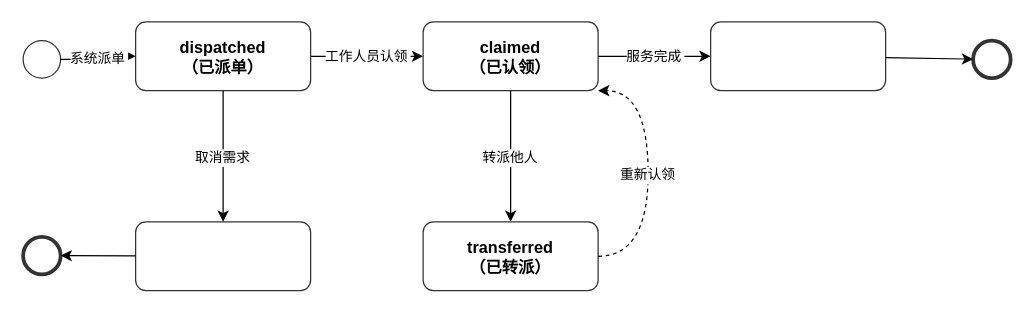
Image size: 1034x313. Some labels were removed from this diagram. Each missing label, with the centre of its shape:
"cancelled （已取消）" goes at (222,256).
"completed （已完成）" goes at (797,56).
